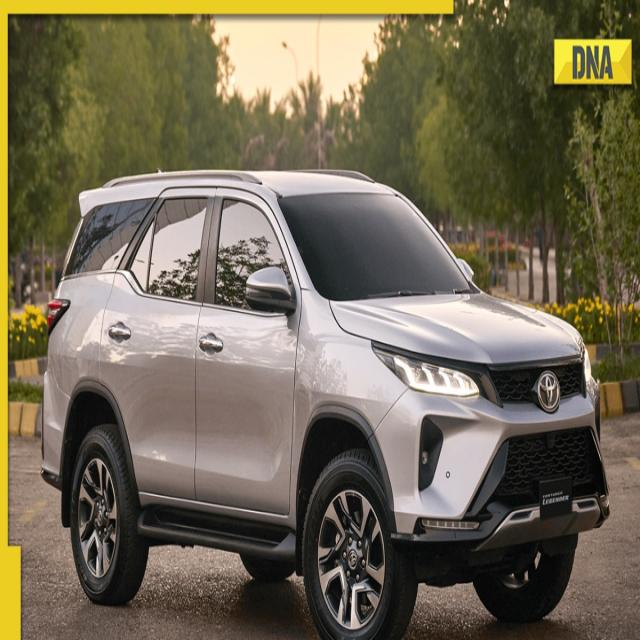light_vehicle: (41, 168, 610, 632)
